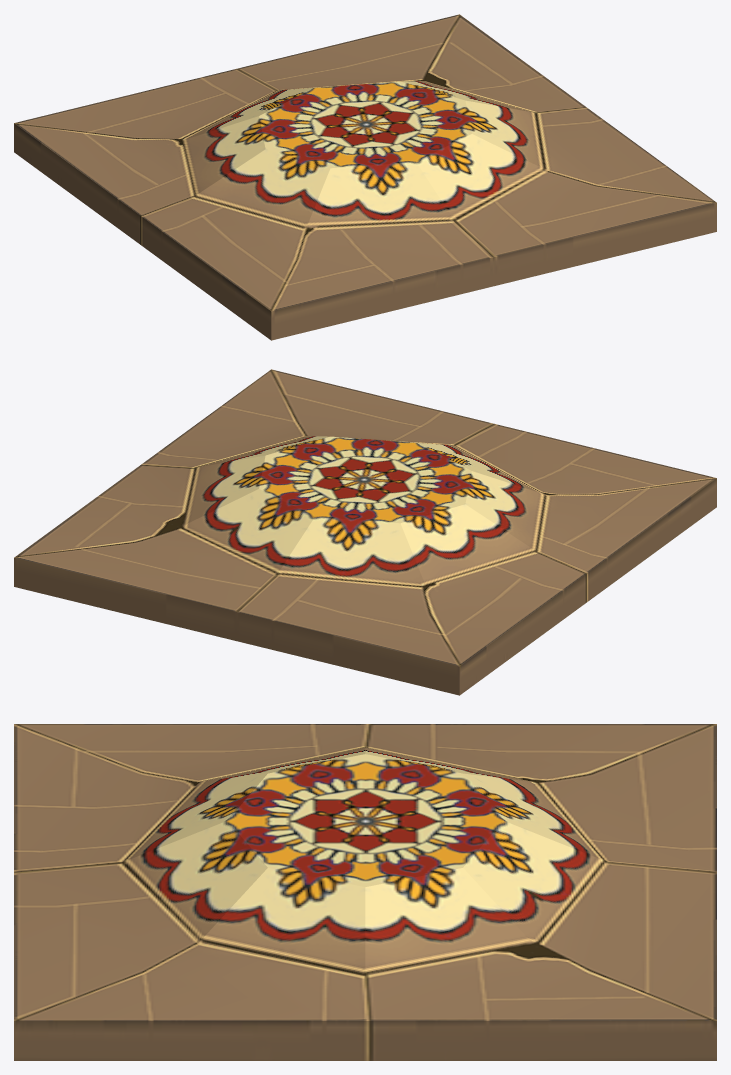
Rendered from egypt_centrebump.gltf.
3 views of the same model, one above another, from view 1: azimuth 30°, elevation 25°; view 2: azimuth 150°, elevation 25°; view 3: azimuth 270°, elevation 25° (orthographic). The views are drawn at different scales.
Visible parts, largest first — view 1: egypt_centrebump_glb; view 2: egypt_centrebump_glb; view 3: egypt_centrebump_glb.
Boxes of the visible parts, x1,y1,x2,y2 form: egypt_centrebump_glb: (14,14,716,340); egypt_centrebump_glb: (14,369,716,695); egypt_centrebump_glb: (14,724,716,1060).
Size of what is drawn, in the model's own units: 4 by 0.5764 by 4.
1 material, 1 textured.
